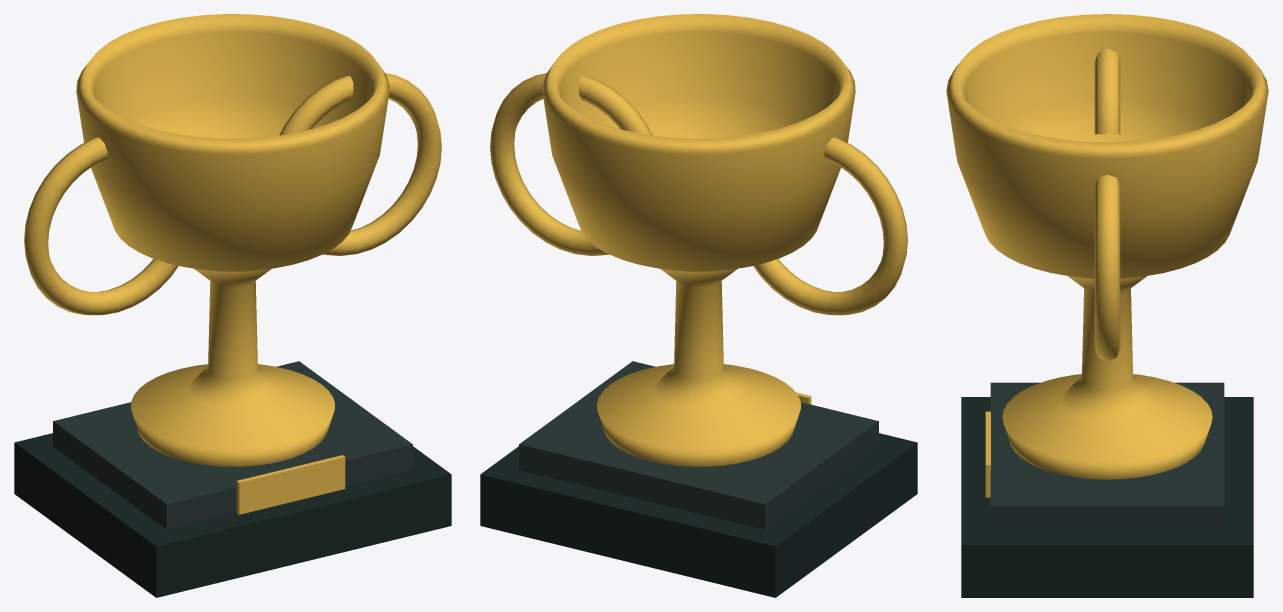
The model's file is trophy.glb.
The picture shows the model from 3 angles, left to right: view 1: azimuth 30°, elevation 25°; view 2: azimuth 150°, elevation 25°; view 3: azimuth 270°, elevation 25°; orthographic projection. The views are drawn at different scales.
Parts seen in each view (by area): view 1: trophy; view 2: trophy; view 3: trophy.
Boxes of the visible parts, x1=… form: trophy: x1=14, y1=14, x2=451, y2=597; trophy: x1=480, y1=14, x2=917, y2=597; trophy: x1=946, y1=14, x2=1268, y2=597.
Size of the model in its own units: 2.11 by 2.11 by 1.38.
